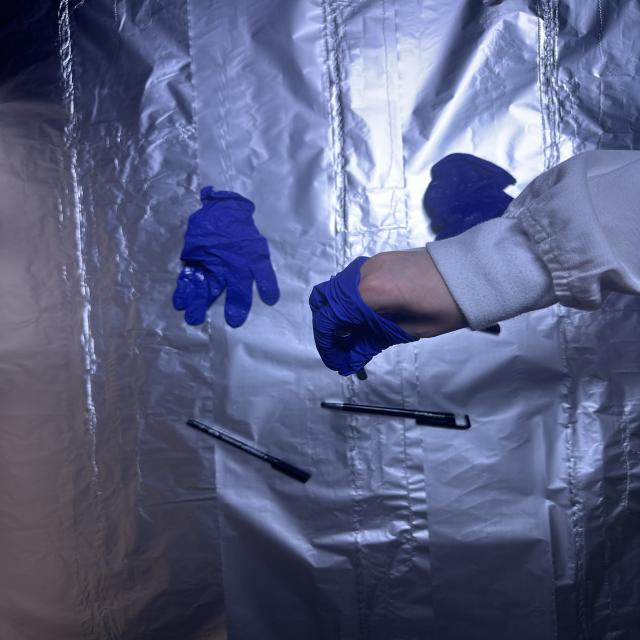glove_partial: (307, 248, 475, 376)
